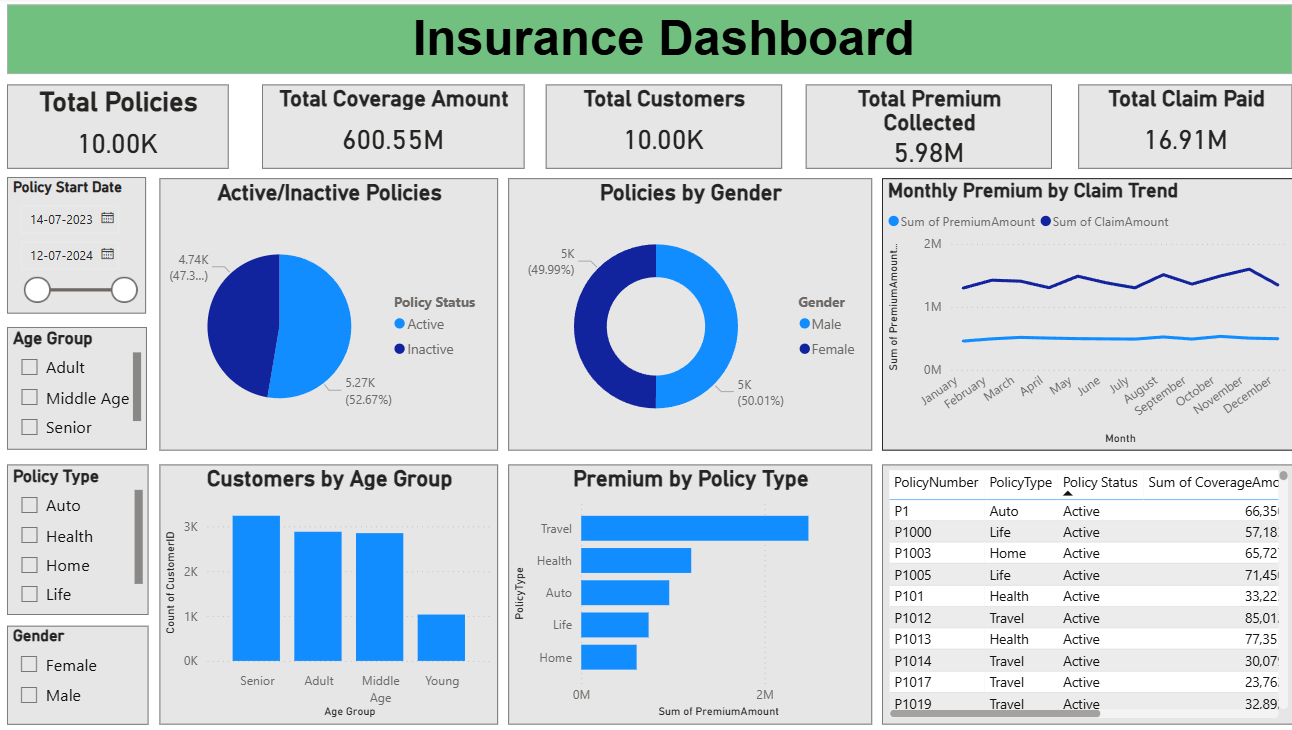

The page's visual inventory and layout, read from the dashboard file:
{"tool":"powerbi","page":{"name":"Page 1","canvas":[1280,720],"ordinal":0},"visuals":[{"type":"card","title":"Total Customers","fields":{"Values":["Count(InsuranceData.CustomerID)"]},"box":[546.2,85.2,230.8,82.2],"z":0,"group":"g1"},{"type":"card","title":"Total Policies","fields":{"Values":["Count(InsuranceData.PolicyNumber)"]},"box":[20,85.9,216.7,82.1],"z":1000,"group":"g1"},{"type":"card","title":"Total Premium Collected","fields":{"Values":["Sum(InsuranceData.PremiumAmount)"]},"box":[801.6,85.2,240.9,82.2],"z":2000,"group":"g1"},{"type":"card","title":"Total Claim Paid","fields":{"Values":["Sum(InsuranceData.ClaimAmount)"]},"box":[1067.6,85.9,210.7,82.1],"z":3000,"group":"g1"},{"type":"card","title":"Total Coverage Amount","fields":{"Values":["Sum(InsuranceData.CoverageAmount)"]},"box":[269.2,85.2,256.8,82.2],"z":4000,"group":"g1"},{"type":"pieChart","title":"Active/Inactive Policies","fields":{"Category":["InsuranceData.Policy Status"],"Y":["CountNonNull(InsuranceData.PolicyNumber)"]},"box":[168.2,177.3,331.4,266.6],"z":5000,"group":"g1"},{"type":"donutChart","title":"Policies by Gender","fields":{"Category":["InsuranceData.Gender"],"Y":["CountNonNull(InsuranceData.PolicyNumber)"]},"box":[509.4,177.3,355.8,266.6],"z":6000,"group":"g1"},{"type":"lineChart","title":"Monthly Premium by Claim Trend","fields":{"Category":["InsuranceData.PolicyStartDate.Variation.Date Hierarchy.Month"],"Y":["Sum(InsuranceData.PremiumAmount)","Sum(InsuranceData.ClaimAmount)"]},"box":[875,177.3,404.8,266.6],"z":7000,"group":"g1"},{"type":"barChart","title":"Premium by Policy Type","fields":{"Category":["InsuranceData.PolicyType"],"Y":["Sum(InsuranceData.PremiumAmount)"]},"box":[509.4,457.3,355.8,254.3],"z":8000,"group":"g1"},{"type":"columnChart","title":"Customers by Age Group","fields":{"Category":["InsuranceData.Age Group"],"Y":["Count(InsuranceData.CustomerID)"]},"box":[168.2,457.3,331.4,254.3],"z":9000,"group":"g1"},{"type":"tableEx","fields":{"Values":["InsuranceData.PolicyNumber","InsuranceData.PolicyType","InsuranceData.Policy Status","Sum(InsuranceData.CoverageAmount)","Sum(InsuranceData.PremiumAmount)","Sum(InsuranceData.ClaimAmount)"]},"box":[875,457.3,403.5,254.3],"z":10000,"group":"g1"},{"type":"slicer","title":"Policy Start Date","fields":{"Values":["InsuranceData.PolicyStartDate"]},"box":[20.1,176.2,136.3,133.9],"z":11000,"group":"g1"},{"type":"slicer","title":"Age Group","fields":{"Values":["InsuranceData.Age Group"]},"box":[19.6,323.3,137.1,119.7],"z":12000,"group":"g1"},{"type":"slicer","title":"Policy Type","fields":{"Values":["InsuranceData.PolicyType"]},"box":[19.6,457.4,138.5,147.2],"z":13000,"group":"g1"},{"type":"textbox","box":[20,7.3,1258.3,67.9],"z":14000,"group":"g1"},{"type":"slicer","title":"Gender","fields":{"Values":["InsuranceData.Gender"]},"box":[19.6,614.7,138.5,96.7],"z":15000,"group":"g1"},{"type":"group","id":"g1","title":"Group 1","box":[19.6,7.3,1260.7,704.4],"z":15001}]}

Visuals, with their boxes in screenshot pixels (x1, y1, x2, y2), scaled from the page's 1280x720 canvas onto the 1292x730 screenshot:
"Total Customers" card: 551 86 784 170
"Total Policies" card: 20 87 239 170
"Total Premium Collected" card: 809 86 1052 170
"Total Claim Paid" card: 1078 87 1290 170
"Total Coverage Amount" card: 272 86 531 170
"Active/Inactive Policies" pieChart: 170 180 504 450
"Policies by Gender" donutChart: 514 180 873 450
"Monthly Premium by Claim Trend" lineChart: 883 180 1291 450
"Premium by Policy Type" barChart: 514 464 873 721
"Customers by Age Group" columnChart: 170 464 504 721
tableEx - InsuranceData.PolicyNumber x InsuranceData.PolicyType: 883 464 1290 721
"Policy Start Date" slicer: 20 179 158 314
"Age Group" slicer: 20 328 158 449
"Policy Type" slicer: 20 464 160 613
textbox: 20 7 1290 76
"Gender" slicer: 20 623 160 721
"Group 1" group: 20 7 1291 722
